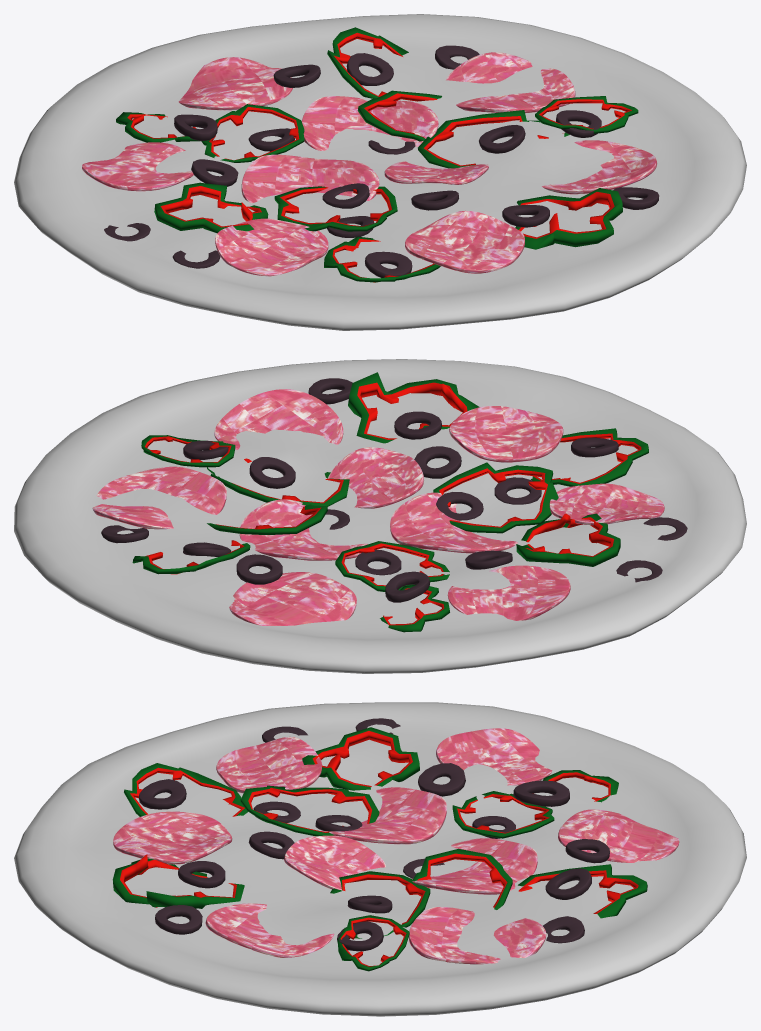
The model's file is pizza3.fbx.
3 renders of one model, top to bottom at view 1: azimuth 30°, elevation 25°; view 2: azimuth 150°, elevation 25°; view 3: azimuth 270°, elevation 25°, orthographic.
Visible parts, largest first — view 1: pizza, meat1, meat6, meat7, meat8, meat4, meat3, meat5, piman.002, meat2, piman, piman.005 (+22 smaller); view 2: pizza, meat4, meat1, meat3, meat2, meat5, meat9, meat7, meat8, meat6, piman.002, piman.005 (+23 smaller); view 3: pizza, meat1, meat3, meat6, meat5, meat7, meat4, meat8, meat9, meat2, piman, piman.002 (+21 smaller).
Boxes of the visible parts, <box> form: pizza: <box>14,14,746,330</box>; meat1: <box>405,210,524,273</box>; meat6: <box>215,218,328,276</box>; meat7: <box>241,154,379,203</box>; meat8: <box>301,96,438,150</box>; meat4: <box>178,57,292,110</box>; meat3: <box>446,52,575,112</box>; meat5: <box>82,142,193,191</box>; piman.002: <box>515,188,622,249</box>; meat2: <box>542,140,657,194</box>; piman: <box>154,182,268,233</box>; piman.005: <box>274,186,397,231</box>; pizza: <box>14,359,746,673</box>; meat4: <box>229,572,356,625</box>; meat1: <box>449,406,563,462</box>; meat3: <box>92,466,226,529</box>; meat2: <box>214,389,343,449</box>; meat5: <box>447,565,570,620</box>; meat9: <box>328,447,423,508</box>; meat7: <box>390,492,517,553</box>; meat8: <box>239,499,367,560</box>; meat6: <box>549,483,664,525</box>; piman.002: <box>348,372,479,443</box>; piman.005: <box>433,462,558,533</box>; pizza: <box>14,702,746,1016</box>; meat1: <box>113,811,232,864</box>; meat3: <box>409,907,546,964</box>; meat6: <box>216,736,322,794</box>; meat5: <box>436,728,552,785</box>; meat7: <box>320,787,446,844</box>; meat4: <box>558,809,679,862</box>; meat8: <box>411,838,537,894</box>; meat9: <box>284,835,385,890</box>; meat2: <box>205,903,334,957</box>; piman: <box>302,727,419,790</box>; piman.002: <box>112,854,244,908</box>.
Size of the model in its own units: 941 by 69.9 by 948.
